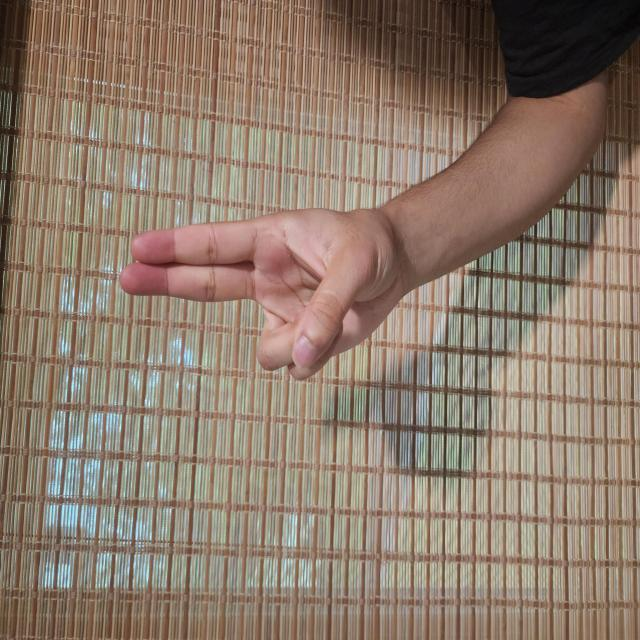U: (186, 148, 331, 552)
